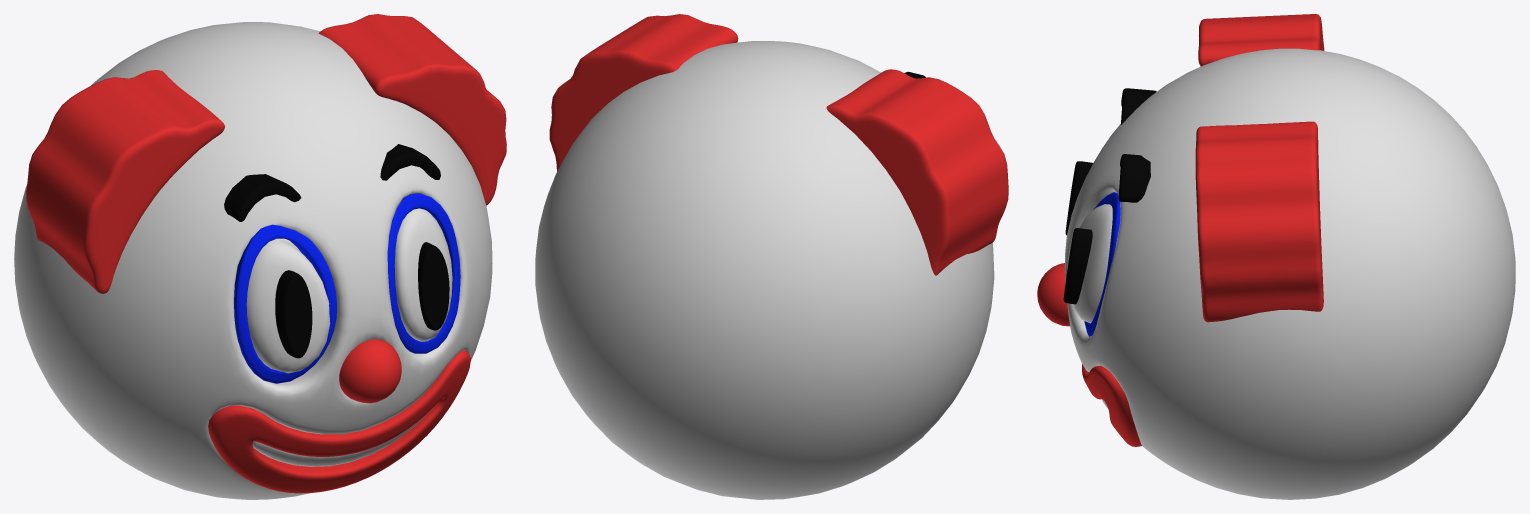
The model's file is 98_clown.glb.
3 renders of one model, left to right at view 1: azimuth 30°, elevation 25°; view 2: azimuth 150°, elevation 25°; view 3: azimuth 270°, elevation 25°, orthographic. The views are drawn at different scales.
Visible parts, largest first — view 1: Group53716, ZBrush_defualt_group001.001, Group002.001, Group24186, Group55708, Group31867, Group004.001, ZBrush_defualt_group003.001, ZBrush_defualt_group002.001, Group003.001; view 2: Group53716, ZBrush_defualt_group001.001, Group002.001; view 3: Group53716, Group002.001, ZBrush_defualt_group001.001, Group24186, Group31867, ZBrush_defualt_group003.001, Group003.001, Group55708, ZBrush_defualt_group002.001, Group004.001.
Part boxes in pixels (x1,y1,x2,y2): Group53716: (14, 22, 492, 499); ZBrush_defualt_group001.001: (26, 70, 224, 293); Group002.001: (319, 14, 506, 205); Group24186: (208, 350, 470, 493); Group55708: (234, 193, 460, 383); Group31867: (339, 339, 401, 403); Group004.001: (275, 270, 312, 358); ZBrush_defualt_group003.001: (418, 242, 449, 330); ZBrush_defualt_group002.001: (224, 174, 301, 221); Group003.001: (380, 144, 440, 180); Group53716: (535, 41, 994, 499); ZBrush_defualt_group001.001: (826, 69, 1008, 275); Group002.001: (549, 14, 738, 171); Group53716: (1065, 48, 1515, 499); Group002.001: (1195, 121, 1323, 322); ZBrush_defualt_group001.001: (1198, 14, 1324, 66); Group24186: (1082, 364, 1141, 446); Group31867: (1037, 263, 1069, 326); ZBrush_defualt_group003.001: (1063, 228, 1092, 304); Group003.001: (1118, 154, 1150, 202); Group55708: (1080, 189, 1120, 336); ZBrush_defualt_group002.001: (1121, 88, 1156, 124); Group004.001: (1065, 161, 1092, 235).
Bounding box in the file's own units: 0.5632 × 0.5542 × 0.5876.
